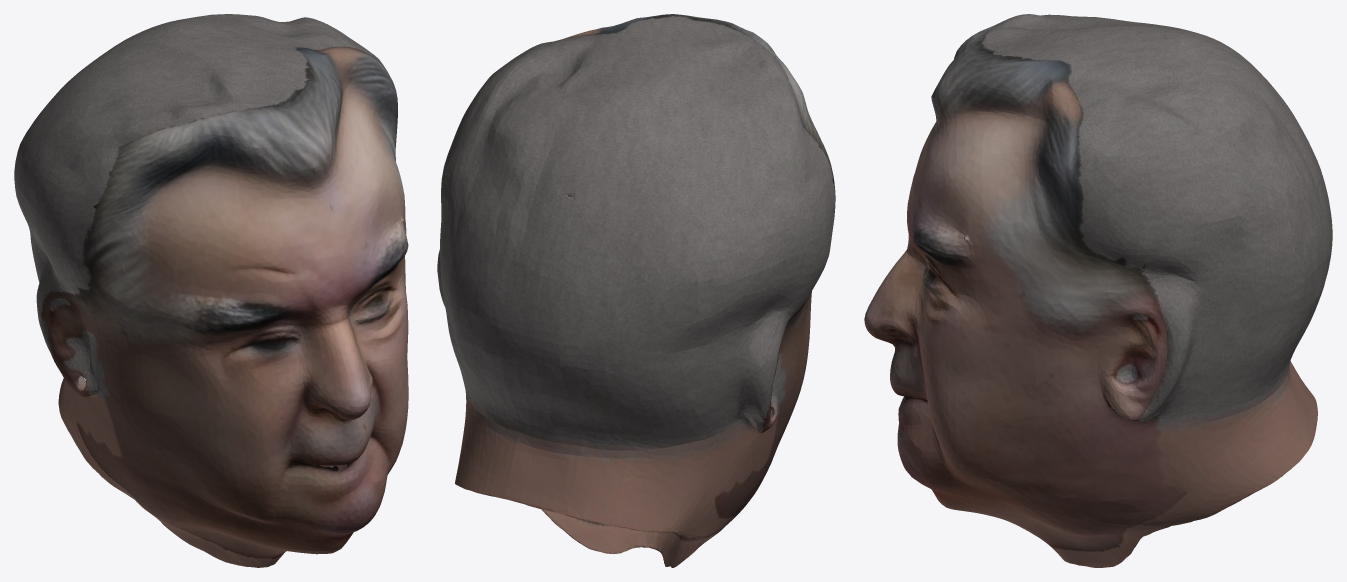
Rendered from rahmon-face.glb.
The picture shows the model from 3 angles, left to right: view 1: azimuth 30°, elevation 25°; view 2: azimuth 150°, elevation 25°; view 3: azimuth 270°, elevation 25°; orthographic projection.
Visible parts, largest first — view 1: world; view 2: world; view 3: world.
Part boxes in pixels (bbox=[...]): world: bbox=[14, 14, 408, 567]; world: bbox=[437, 14, 835, 567]; world: bbox=[864, 14, 1332, 567].
Size of the model in its own units: 0.7099 by 1 by 0.8306.
Materials: 1 (1 with a texture image).
